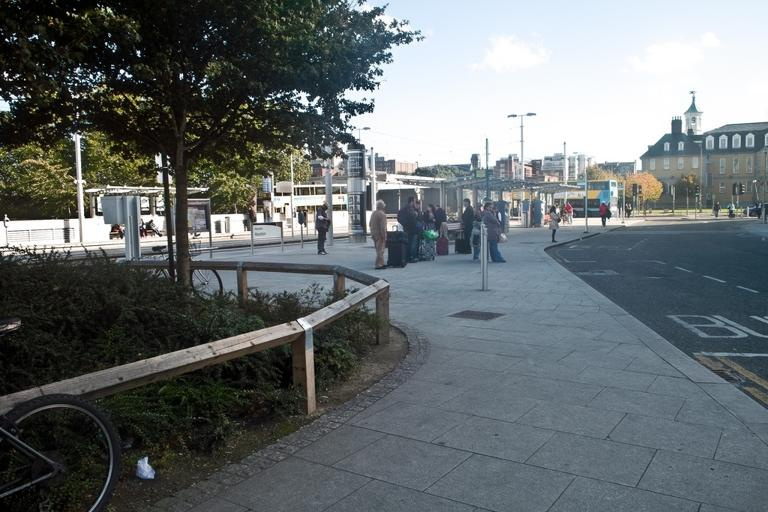non-vehicle: (0, 317, 121, 511), (151, 239, 223, 301)
